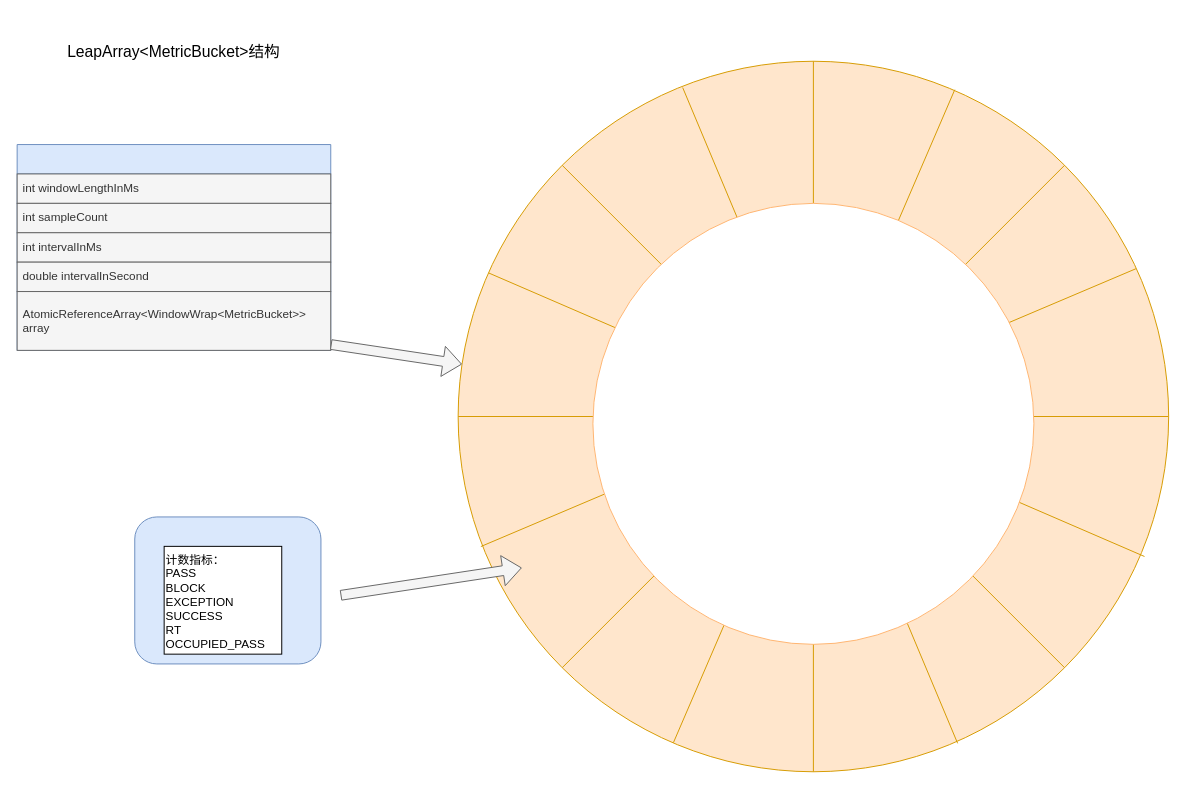
The diagram is 1187 pixels wide and 790 high, and some of its shapes have lost their labels. The shapes that lost their labels are listed below. From the top down, each one's box as (x1, y1, x2, y2) in pixels, then its label:
(16, 144, 331, 350): LeapArray<MetricBucket>
(134, 516, 321, 664): MetricBucket
